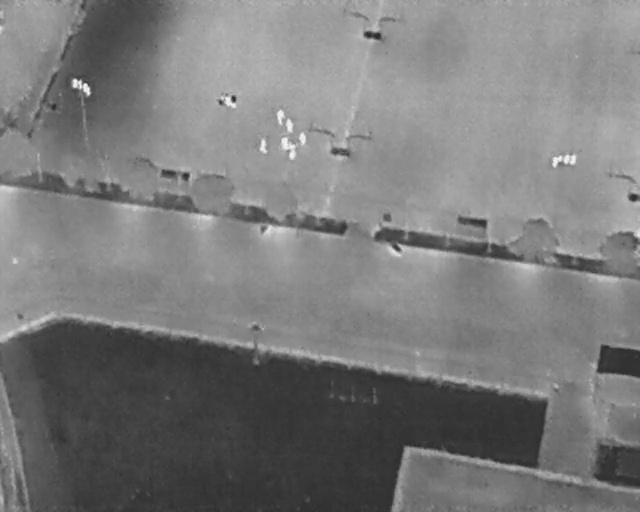Person: (288, 141, 297, 161), (285, 117, 294, 134), (277, 109, 285, 127), (259, 138, 268, 154), (280, 136, 289, 152), (299, 131, 307, 146)
